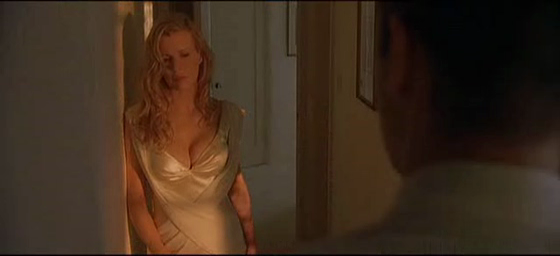face: (157, 32, 197, 92)
ms: (1, 1, 560, 256)
person: (122, 12, 257, 256)
